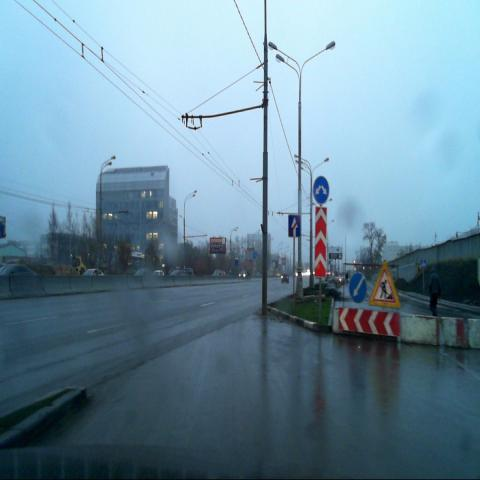4_2_2: (349, 271, 366, 303)
